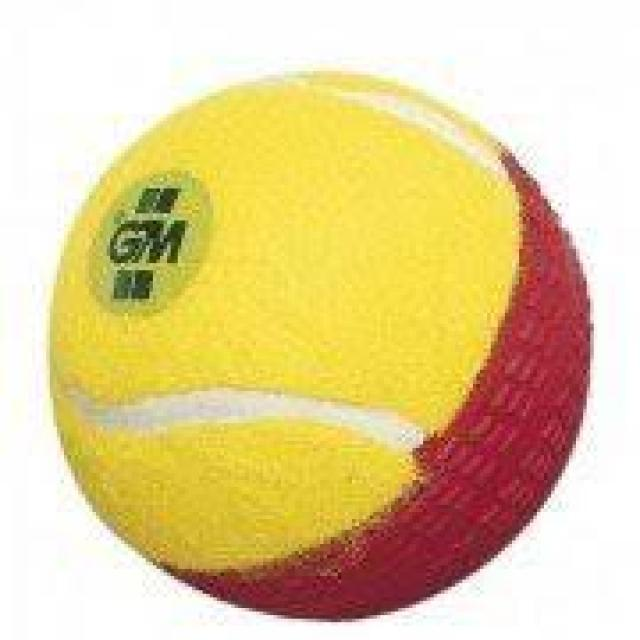ball: (35, 65, 608, 622)
